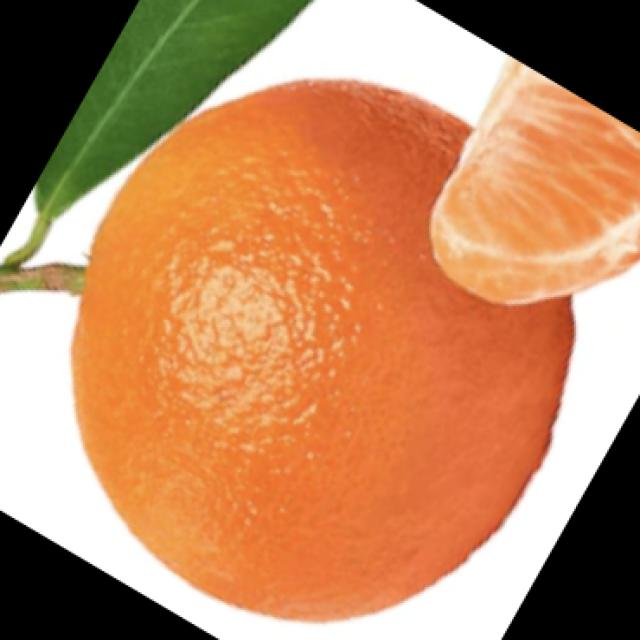orange: (68, 63, 594, 626)
